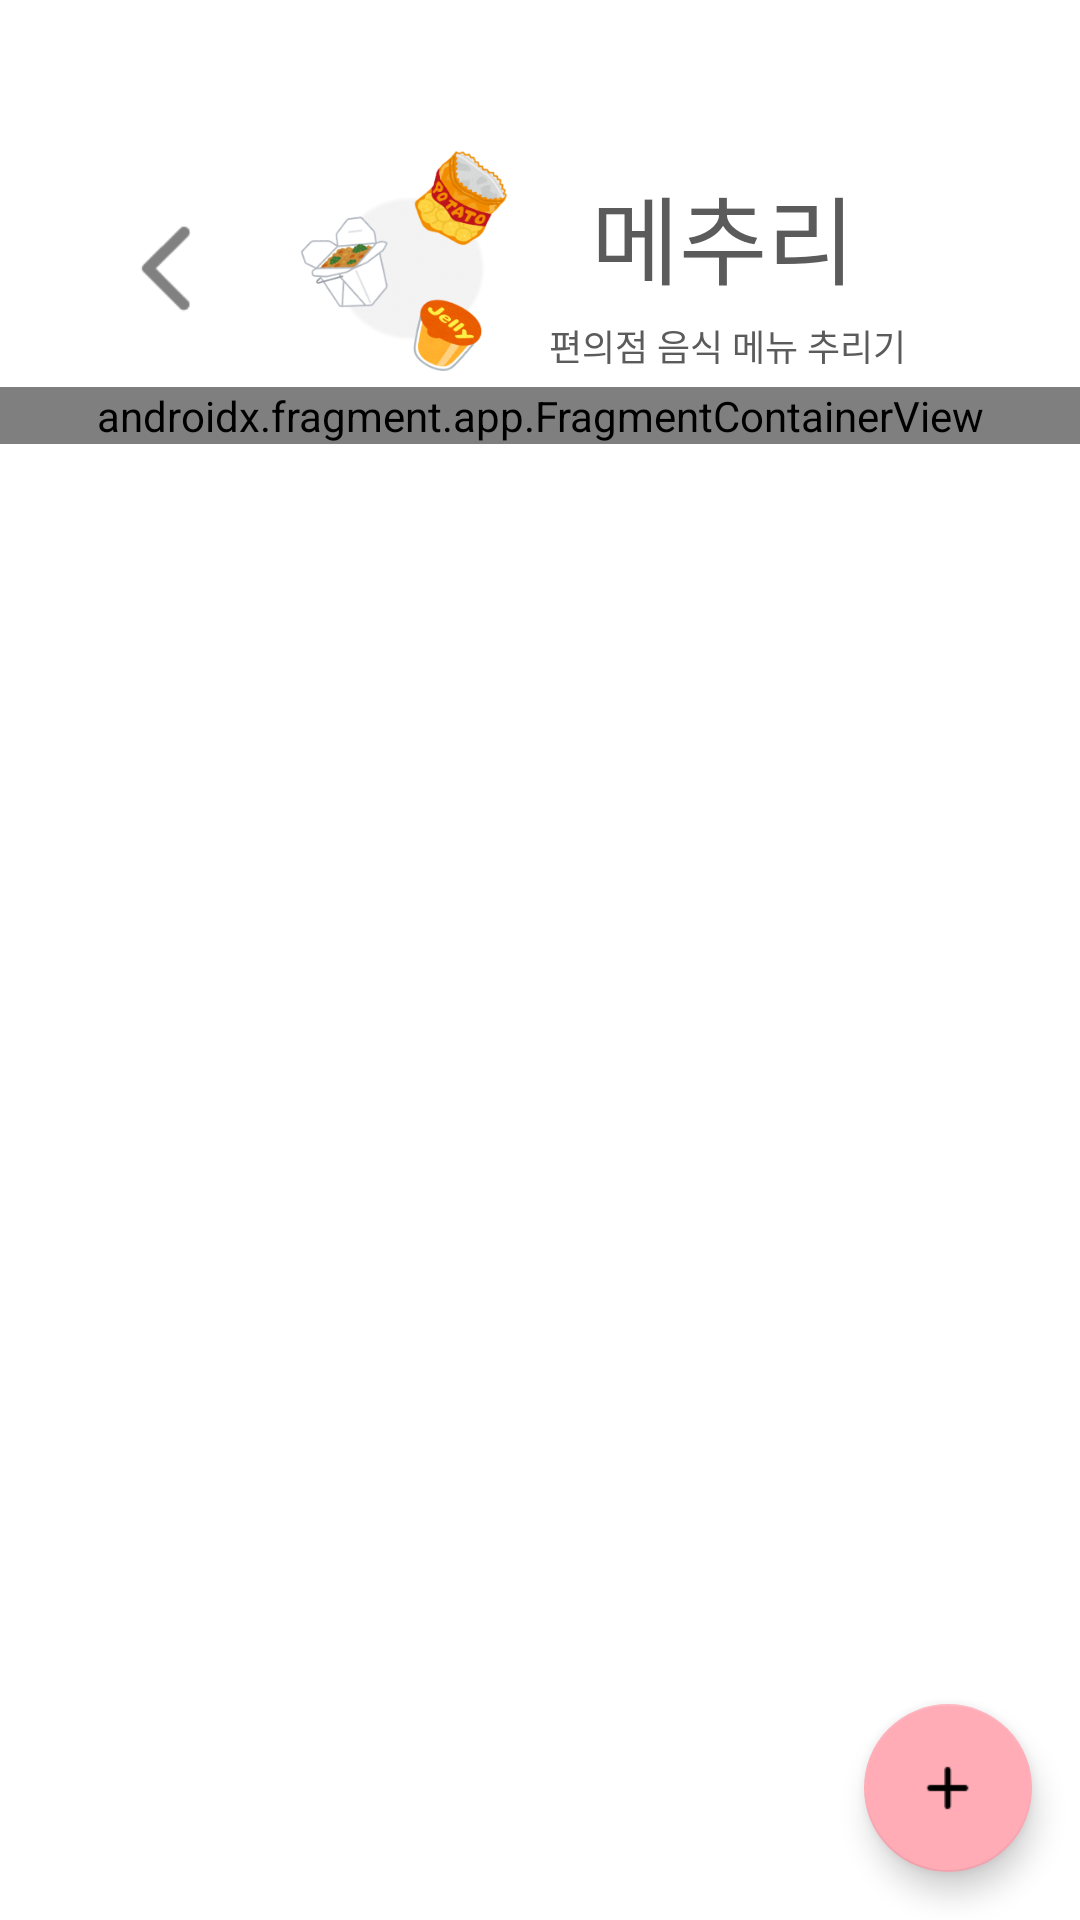

Point at icon controls on the screen. Image size 1080 × 1920, points as [x,y].
backpressbtn: [166,268]
floating add: [948,1788]
mainicon: [404,261]
